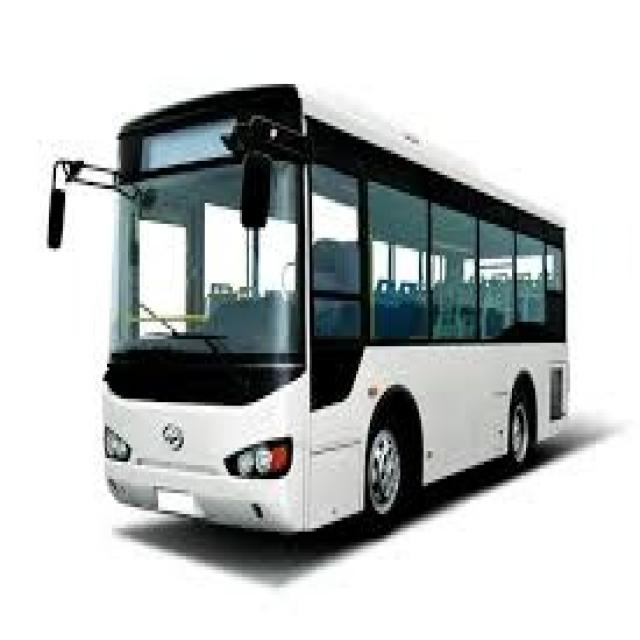bus: (42, 63, 586, 546)
